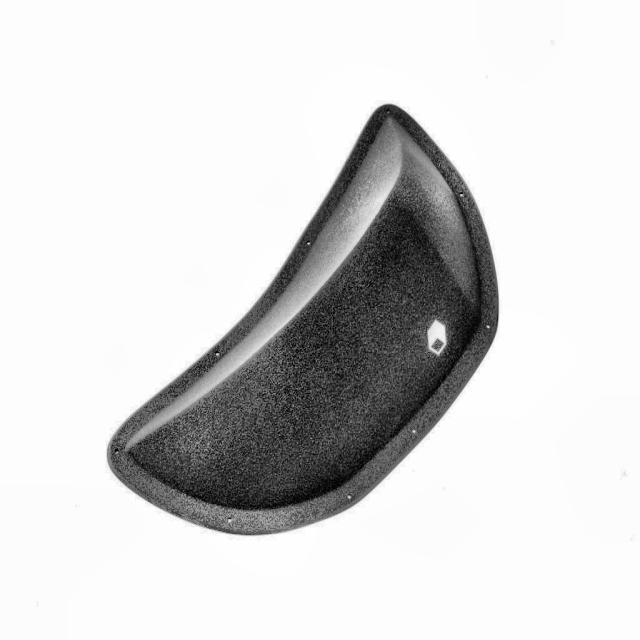Hold: (106, 101, 501, 542)
